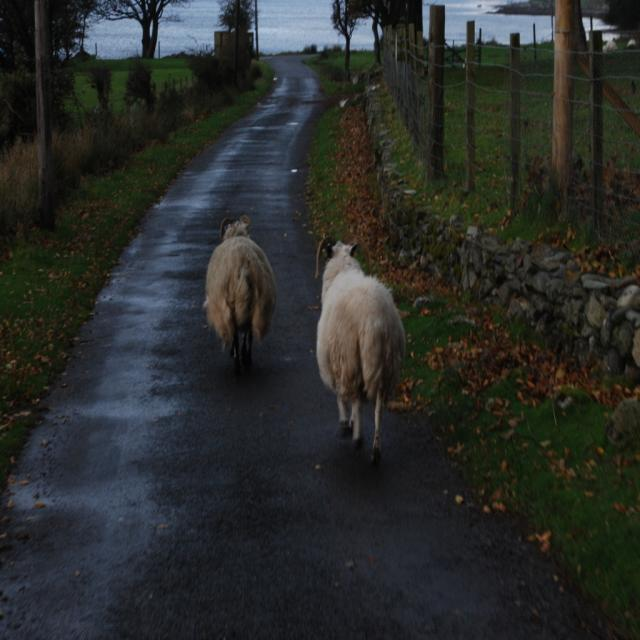Sheep: (315, 236, 406, 461), (200, 213, 277, 363)
